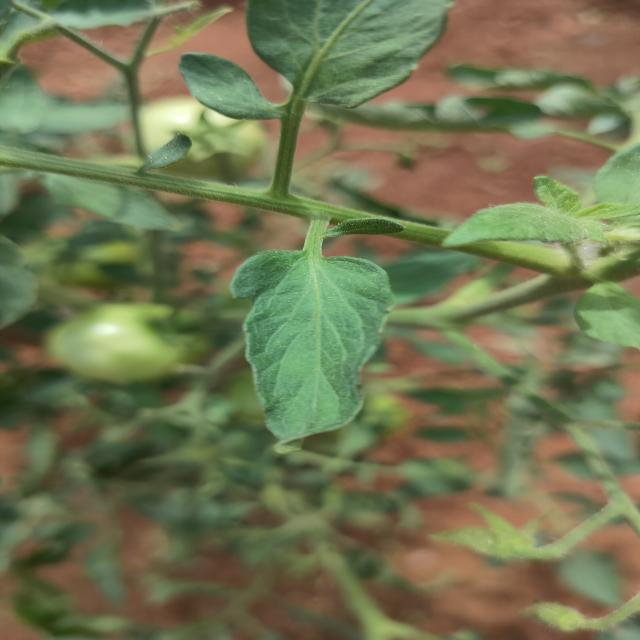tomato_healthy: (222, 244, 381, 441)
